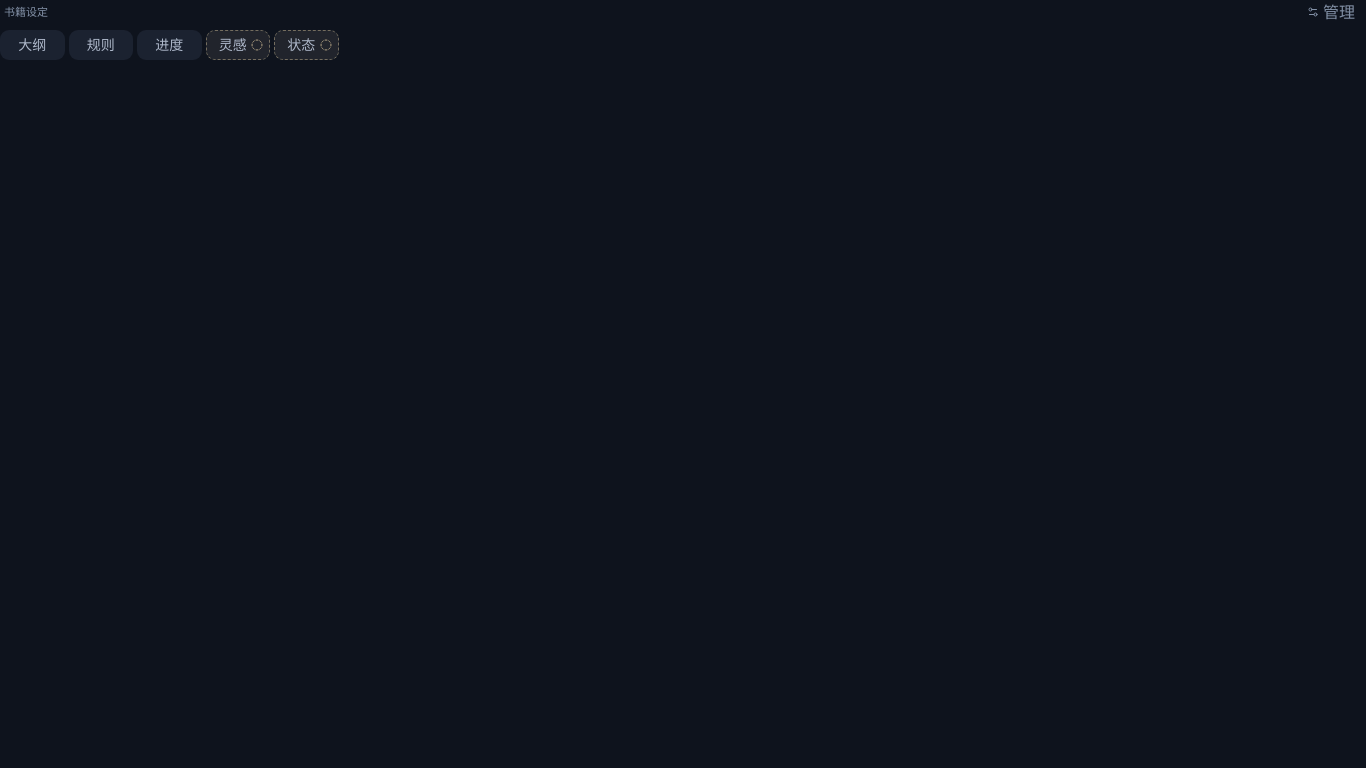
Scenario: BookSettingsShortcuts › 默认 Pin 五个自适应快捷入口，并可 Pin 动态发现的 Markdown 文件
Expected: the button "大纲" is shown, [0,30,64,60]
Expected: the button "规则" is shown, [68,30,133,60]
Click the button "管理": click(1331, 12) [1300,0,1362,24]
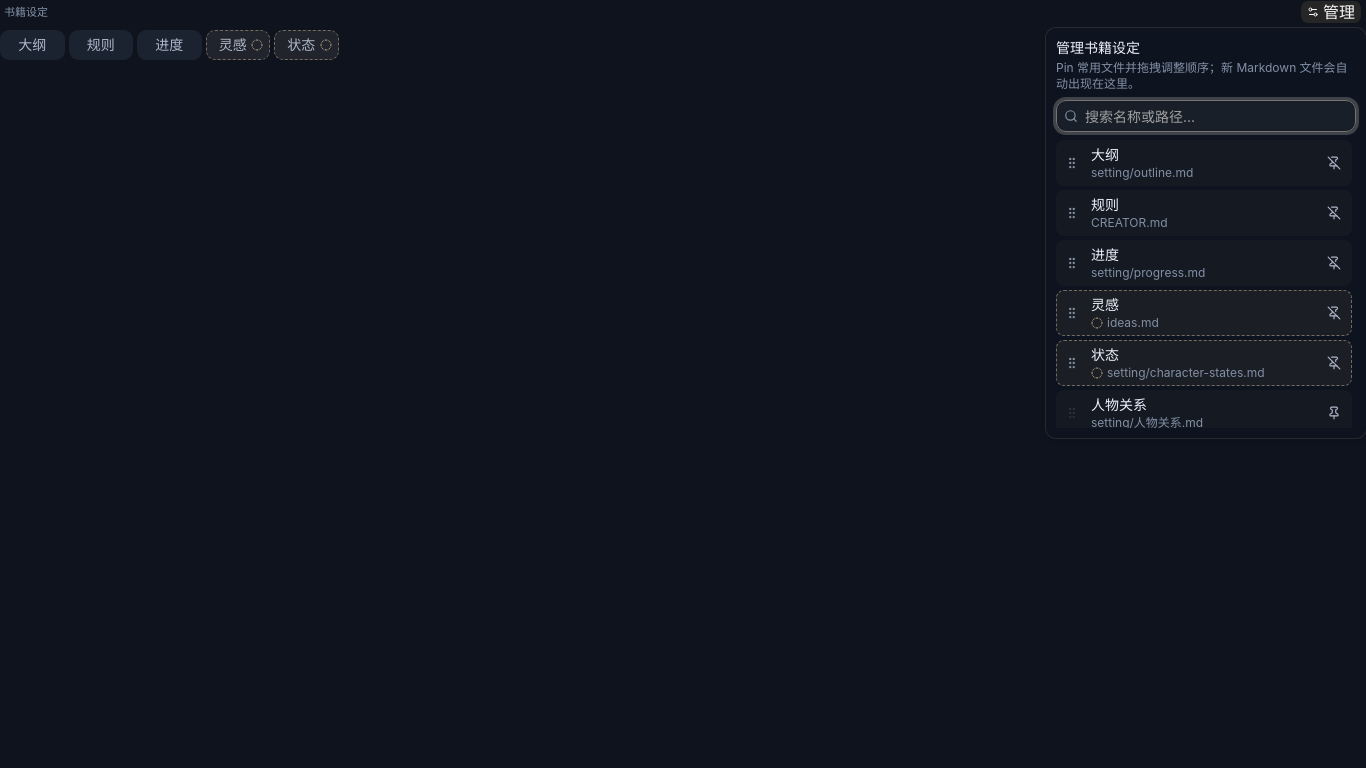
Result: the text "setting/人物关系.md" is shown at [1091,415,1203,428]
Click the button named "Pin 人物关系": click(1334, 413) [1321,400,1347,426]
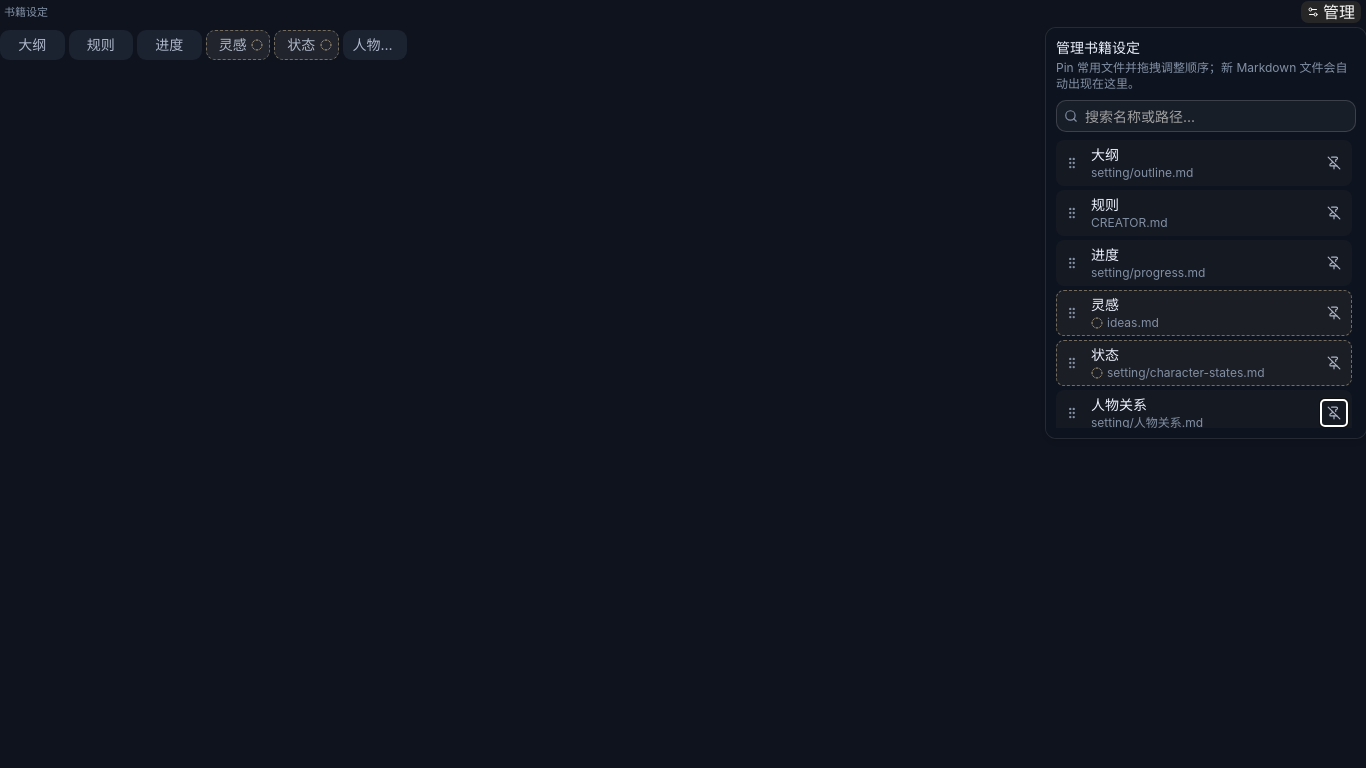
Result: the text "setting/人物关系.md" is shown at [1091,415,1203,428]
Result: the button "人物关系" is shown at [342,30,407,60]
